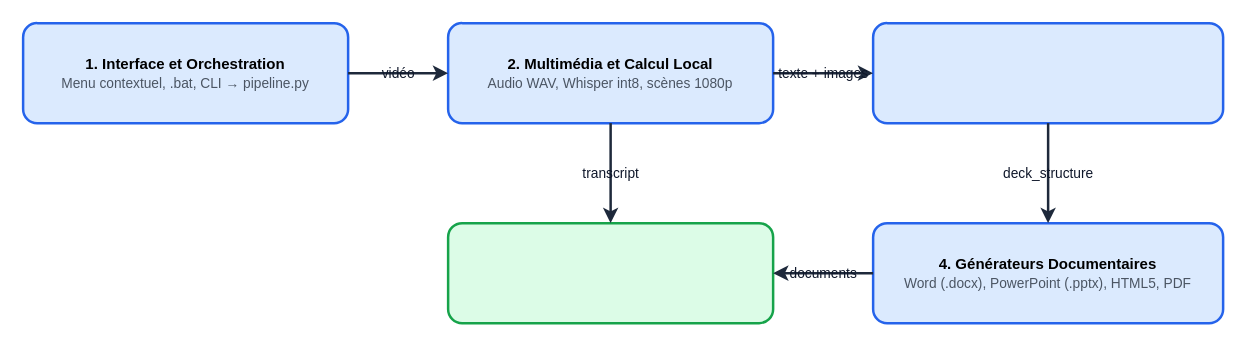
The diagram is 1245 pixels wide and 345 high, and some of its shapes have lost their labels. The shapes that lost their labels are listed below. From the top down, each one's box as (x1, y1, x2, y2) in pixels, then its label:
(871, 21, 1224, 124): 3. Intelligence et FinOps LLM (OpenAI/Gemini/Mistral), Humanizer, coûts
(446, 221, 774, 324): 5. Pack de Livrables docx, pptx, html, pdf, md, json, keyframes
